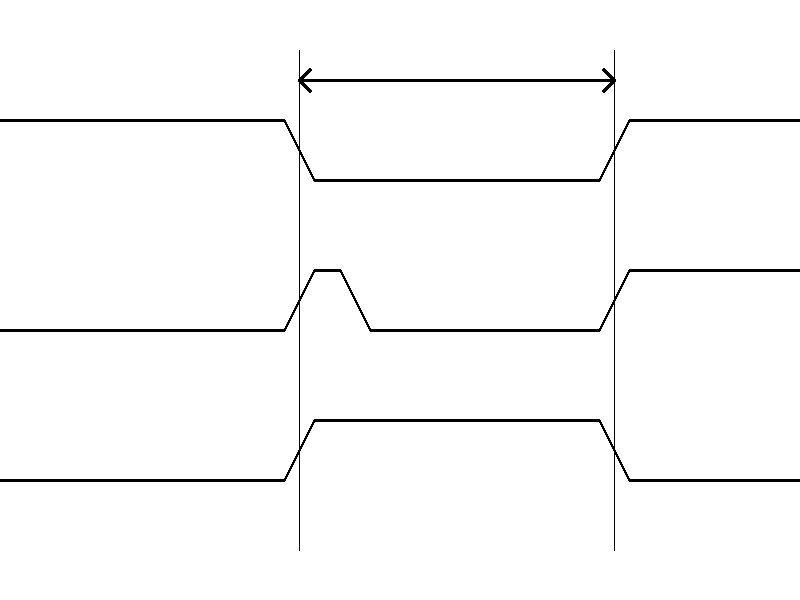double_arrow: (299, 65, 614, 95)
